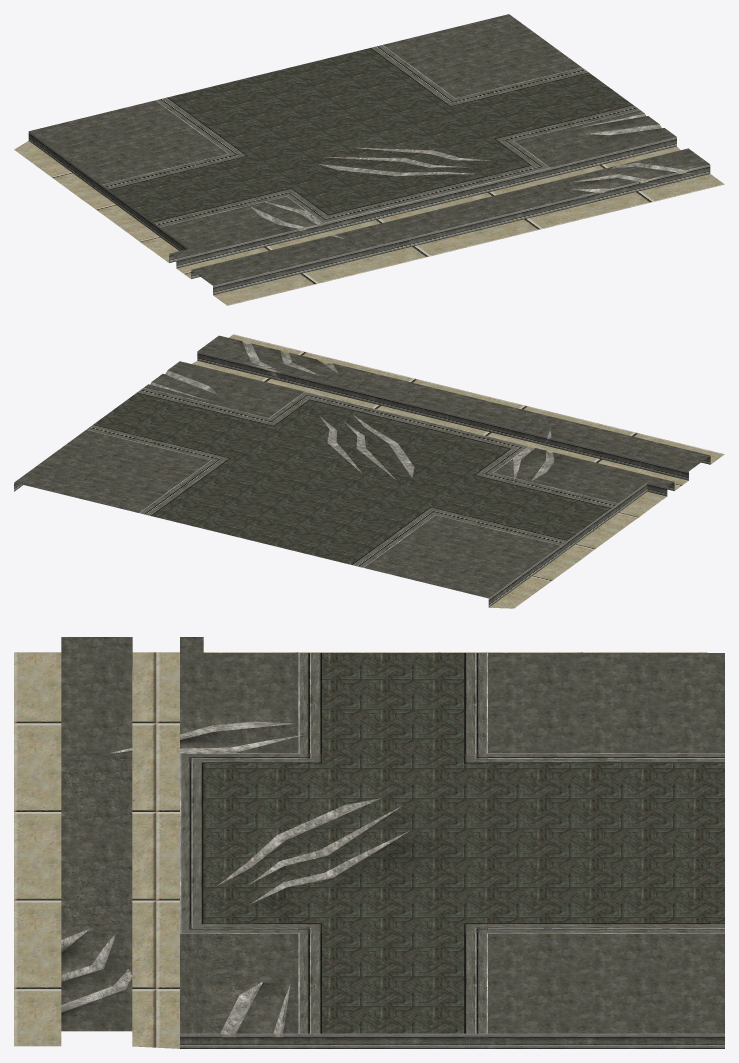
Rendered from DWARF_PALACE_MAINHALL_FLOOR02.fbx.
3 renders of one model, top to bottom at view 1: azimuth 30°, elevation 25°; view 2: azimuth 150°, elevation 25°; view 3: azimuth 270°, elevation 25°, orthographic. The views are drawn at different scales.
Visible parts, largest first — view 1: DWARF_PALACE_MAINHALL_FLOOR02; view 2: DWARF_PALACE_MAINHALL_FLOOR02; view 3: DWARF_PALACE_MAINHALL_FLOOR02.
Part boxes in pixels (box(x1,y1,x2,y2)): DWARF_PALACE_MAINHALL_FLOOR02: box(14, 14, 724, 305); DWARF_PALACE_MAINHALL_FLOOR02: box(14, 334, 724, 608); DWARF_PALACE_MAINHALL_FLOOR02: box(14, 637, 724, 1048).
Bounding box in the file's own units: 396127 × 7576 × 300000.
Materials: 8 (8 with a texture image).
